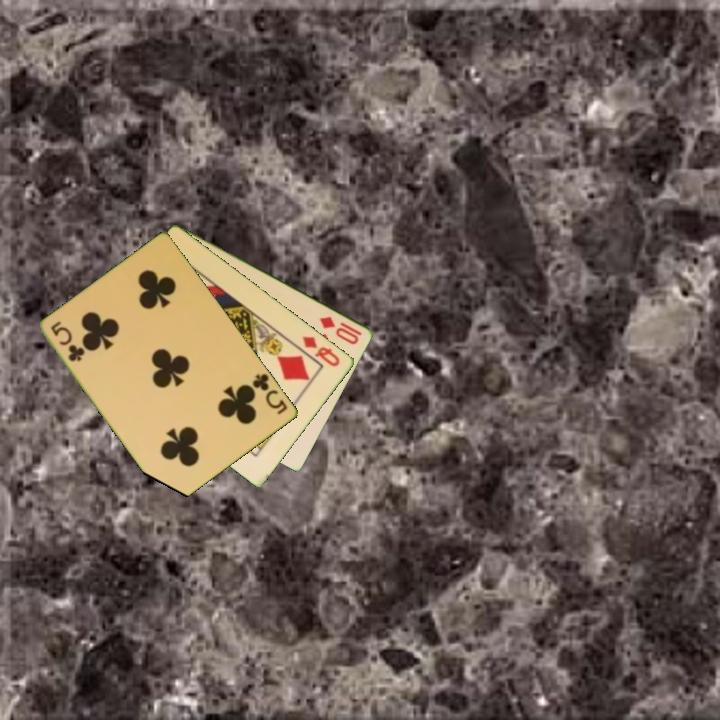10d: (316, 313, 365, 348)
5c: (249, 370, 291, 418), (47, 317, 88, 365)
Qd: (299, 332, 343, 370)
